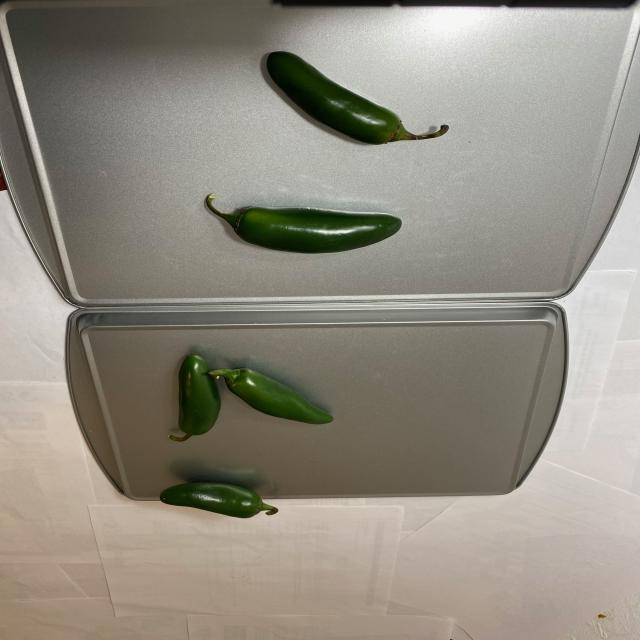chilli: (197, 57, 451, 258), (146, 332, 342, 521)
